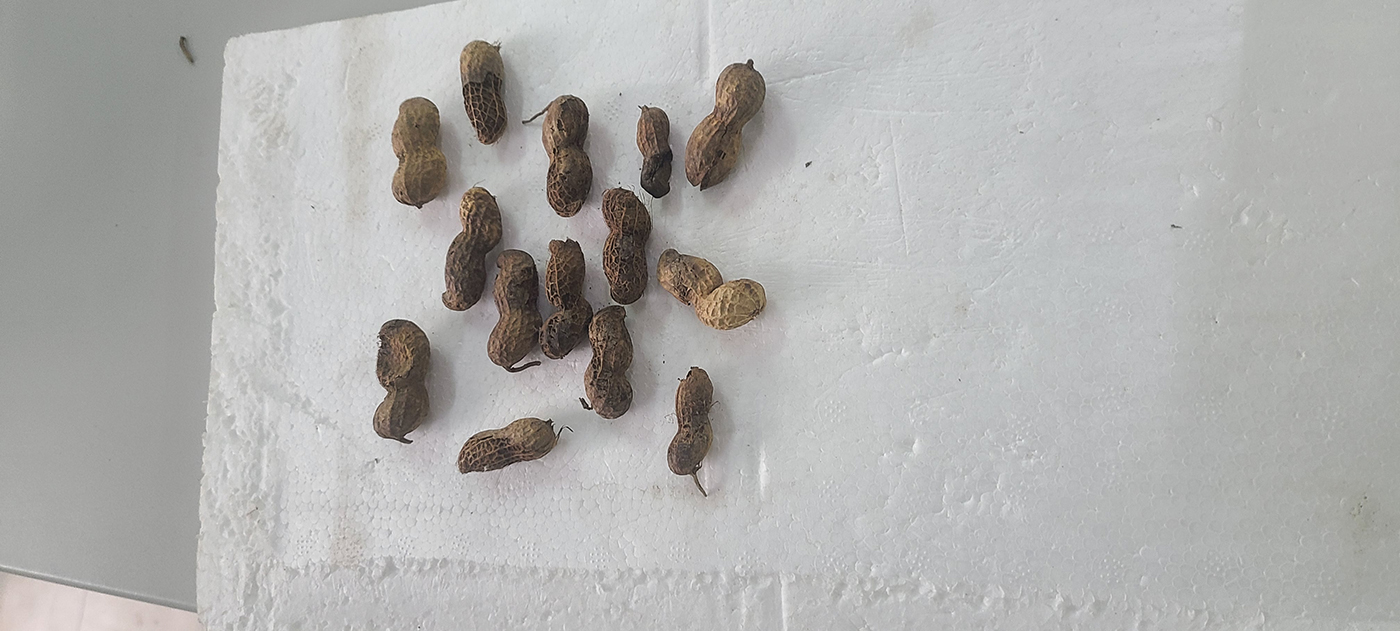l: (685, 62, 766, 191), (656, 249, 767, 329), (441, 183, 502, 313), (371, 318, 432, 440), (487, 249, 543, 368), (541, 96, 594, 218), (540, 239, 592, 359), (390, 97, 447, 206), (602, 187, 651, 305), (458, 417, 556, 475), (583, 305, 633, 418), (667, 365, 714, 476), (459, 41, 509, 144), (636, 106, 672, 198)
